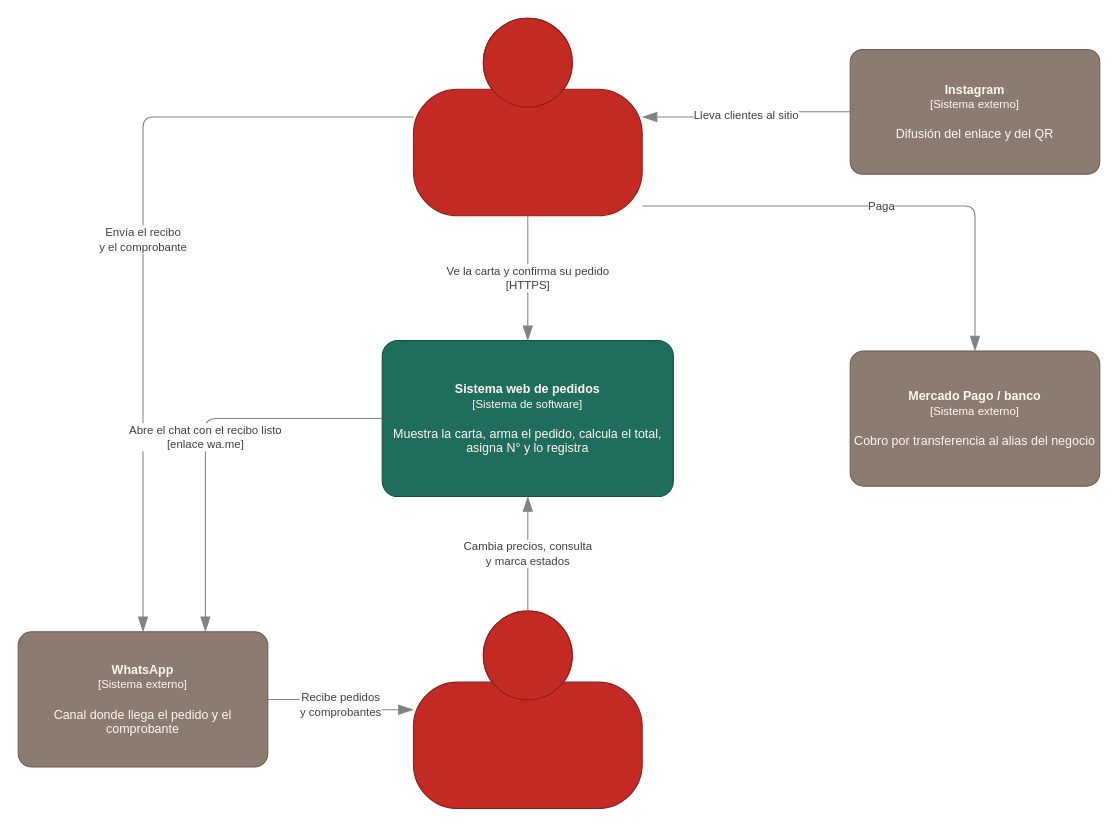
Image size: 1118x827. Some labels were removed from this diagram. The box of each missing label's shape, as (x1, y1, x2, y2) in pixels:
Cliente [Persona] Vecino de Chilecito que pide pizza con envío a domicilio: (412, 17, 642, 216)
Equipo de Dany Pizzas [Persona] Atención, cocina y dueño (3 personas): (412, 610, 642, 809)
